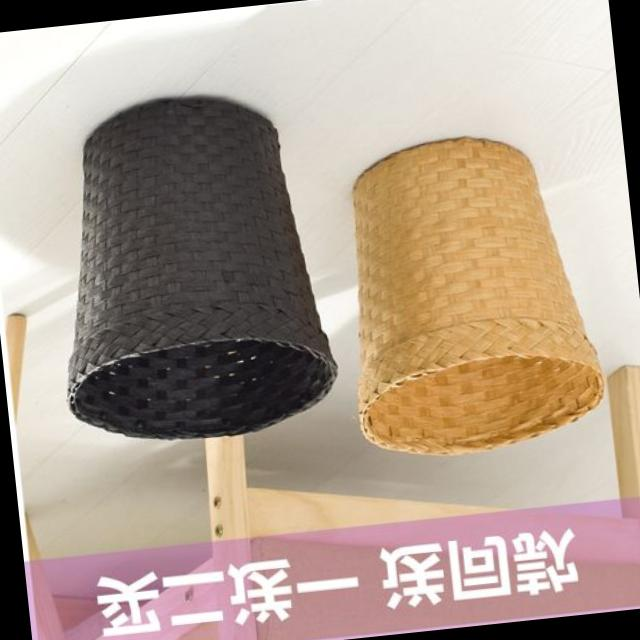dustbin: (28, 79, 349, 462), (328, 116, 618, 470)
